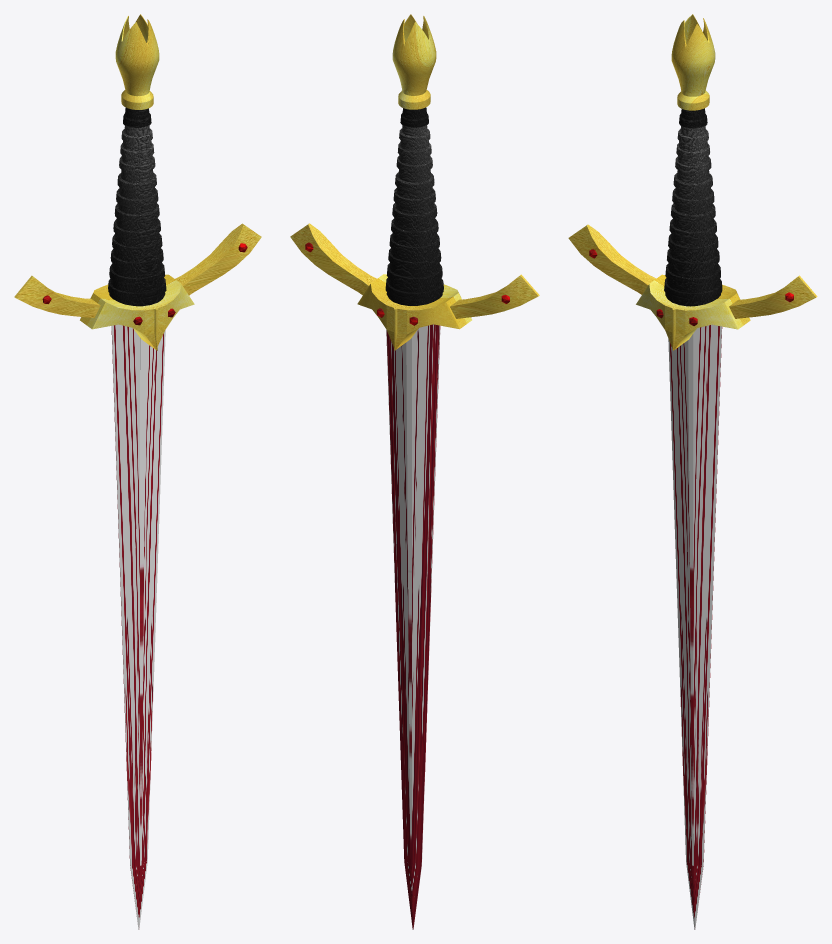
Rendered from Daga_sangre_UNITY.fbx.
3 views of the same model, side by side, from view 1: azimuth 30°, elevation 25°; view 2: azimuth 150°, elevation 25°; view 3: azimuth 330°, elevation 25° (orthographic).
Parts seen in each view (by area): view 1: filo, base, centro, pico, agare1, agare2; view 2: filo, base, centro, pico, agare1, agare2; view 3: filo, base, centro, pico, agare2, agare1.
Boxes of the visible parts, bbox=[...] form: filo: bbox=[111, 324, 165, 929]; base: bbox=[108, 107, 166, 306]; centro: bbox=[80, 274, 194, 350]; pico: bbox=[115, 14, 159, 109]; agare1: bbox=[175, 223, 261, 295]; agare2: bbox=[14, 275, 100, 317]; filo: bbox=[386, 324, 440, 929]; base: bbox=[385, 107, 443, 305]; centro: bbox=[357, 274, 471, 350]; pico: bbox=[392, 14, 436, 109]; agare1: bbox=[290, 223, 376, 295]; agare2: bbox=[450, 274, 539, 318]; filo: bbox=[668, 324, 722, 929]; base: bbox=[664, 108, 722, 306]; centro: bbox=[636, 274, 750, 350]; pico: bbox=[671, 14, 715, 110]; agare2: bbox=[568, 224, 656, 294]; agare1: bbox=[729, 275, 817, 318].
Bounding box in the file's own units: 5.91 × 20.83 × 1.69.
